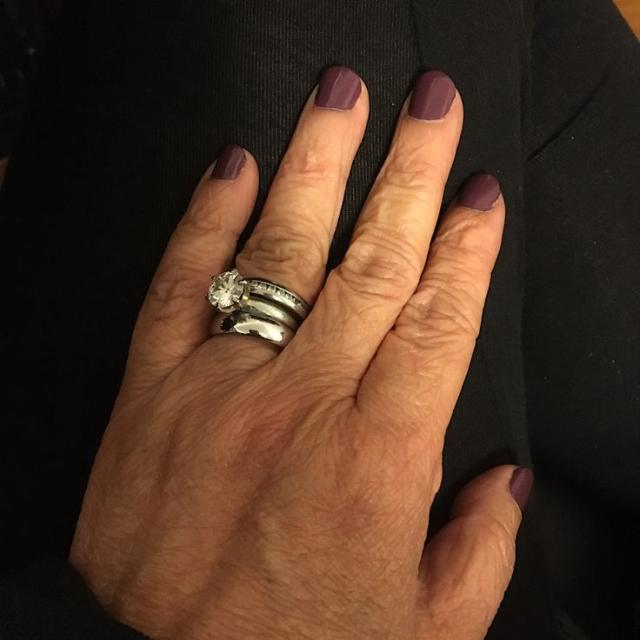Fingernail: (410, 68, 458, 122), (456, 170, 502, 213), (317, 67, 362, 110), (211, 146, 248, 181), (509, 466, 536, 512)
